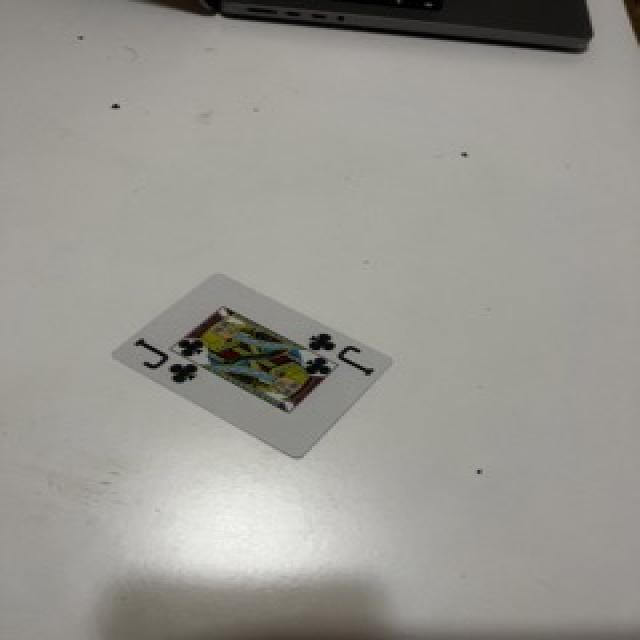Jack of clubs: (108, 270, 396, 461)
